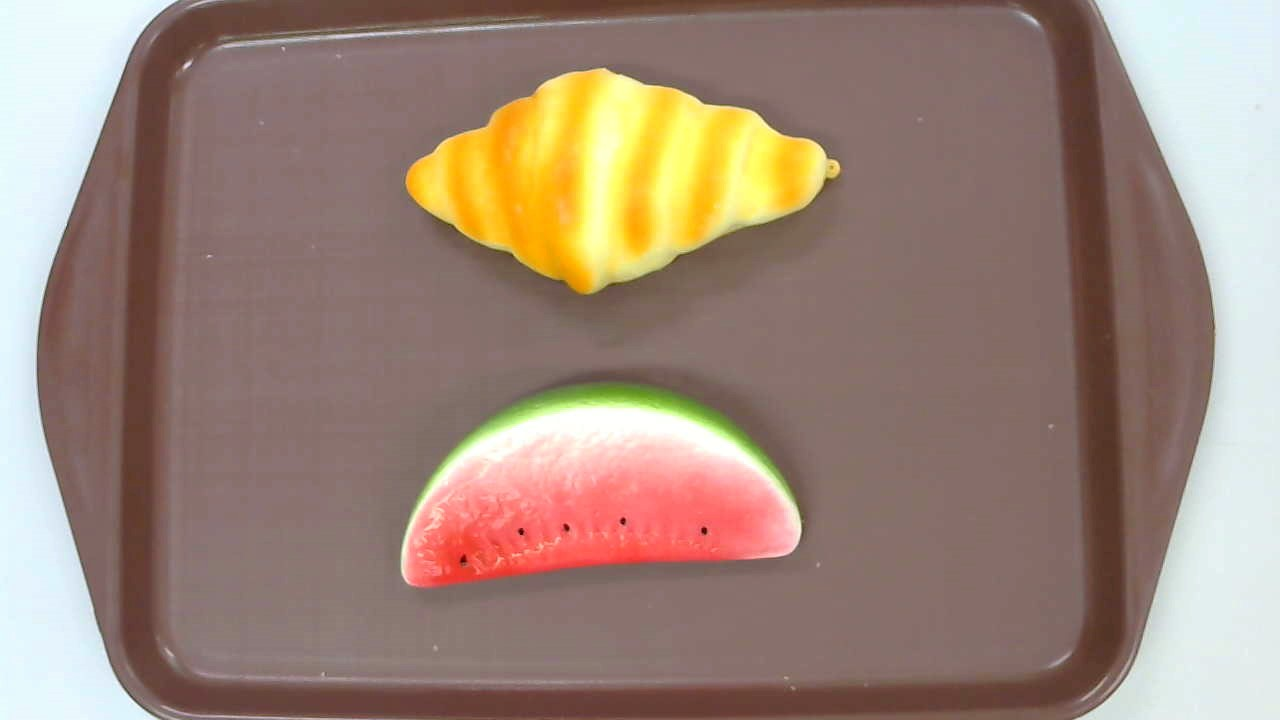croissant: (405, 65, 841, 294)
water melon: (400, 378, 803, 588)
